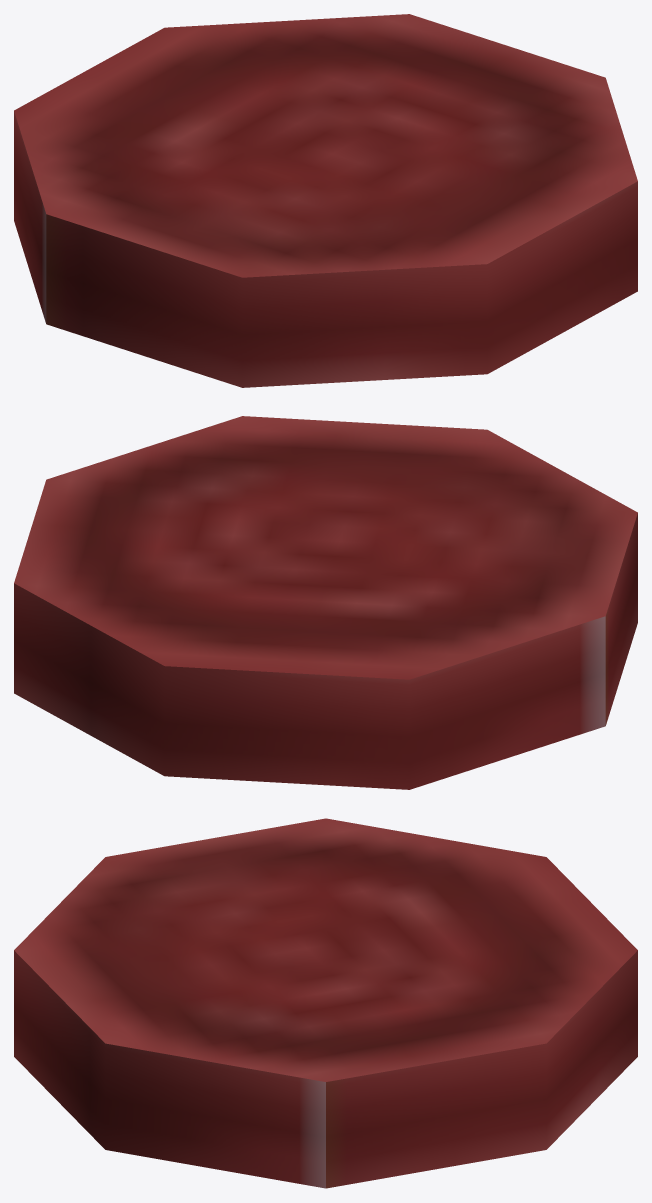
File: SM_PROP_checkers_piece_city_01.fbx
3 views of the same model, one above another, from view 1: azimuth 30°, elevation 25°; view 2: azimuth 150°, elevation 25°; view 3: azimuth 270°, elevation 25° (orthographic). The views are drawn at different scales.
Visible parts, largest first — view 1: SM_PROP_checkers_piece_city_01; view 2: SM_PROP_checkers_piece_city_01; view 3: SM_PROP_checkers_piece_city_01.
Boxes of the visible parts, bbox=[...] form: SM_PROP_checkers_piece_city_01: bbox=[14, 14, 637, 387]; SM_PROP_checkers_piece_city_01: bbox=[14, 416, 637, 789]; SM_PROP_checkers_piece_city_01: bbox=[14, 818, 637, 1188].
Size of the model in its own units: 6.31 by 1.19 by 6.31.
